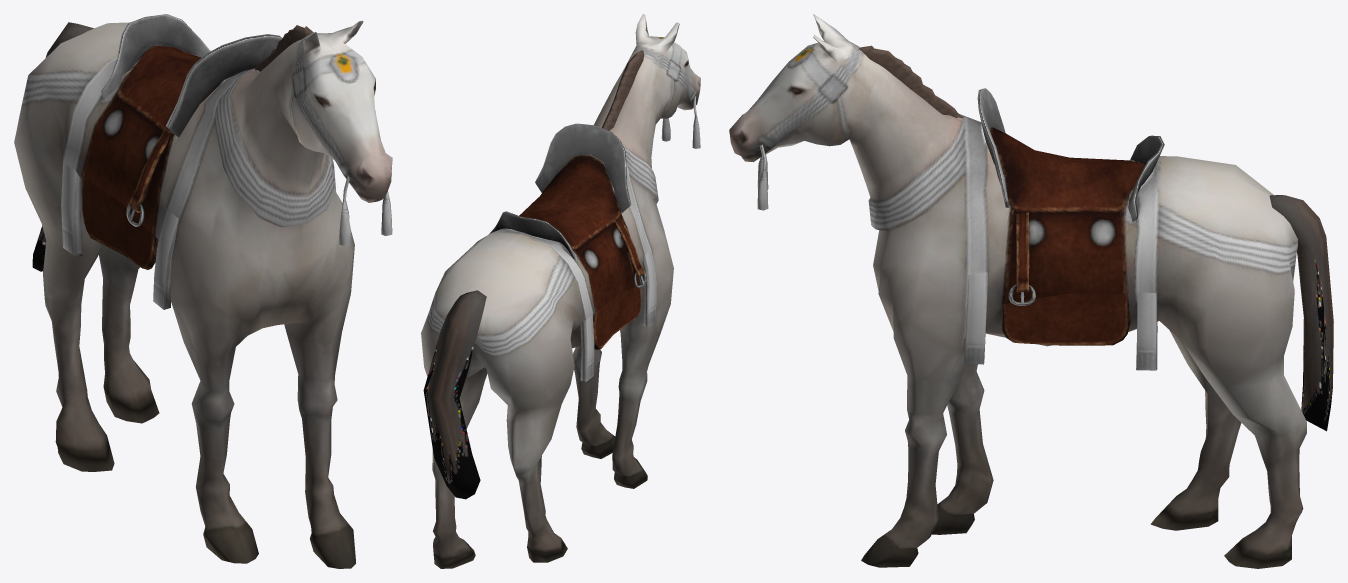
The model's file is body-base.glb.
3 views of the same model, side by side, from view 1: azimuth 30°, elevation 25°; view 2: azimuth 150°, elevation 25°; view 3: azimuth 270°, elevation 25° (orthographic). The views are drawn at different scales.
Bounding box in the file's own units: 0.8372 × 2.5 × 2.64.
1 material, 1 textured.
